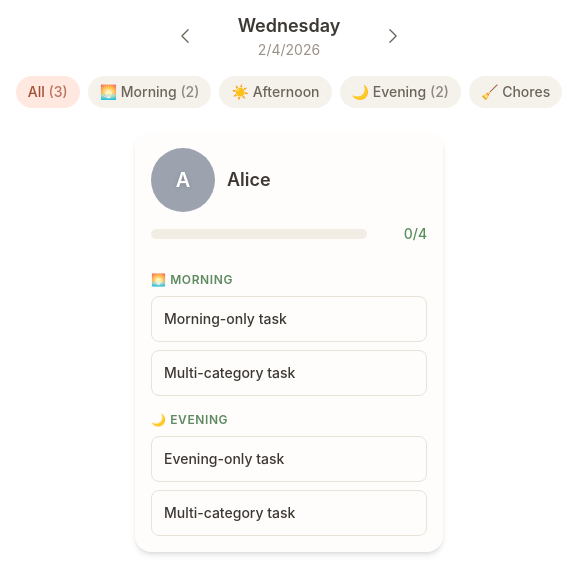
Test case: ScheduleView › category filter › toggling filter off returns to showing all categories
// Click Morning to filter
Click the button "🌅 Morning (2)".
click(150, 92)  # box [88,76,211,108]
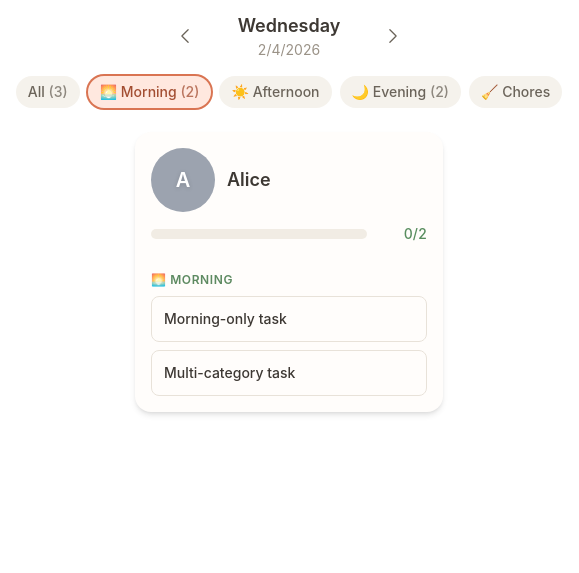
Check: the button "Evening-only task" is gone
// Click Morning again to toggle off (return to All)
Click the button "🌅 Morning (2)".
click(150, 92)  # box [88,76,211,108]
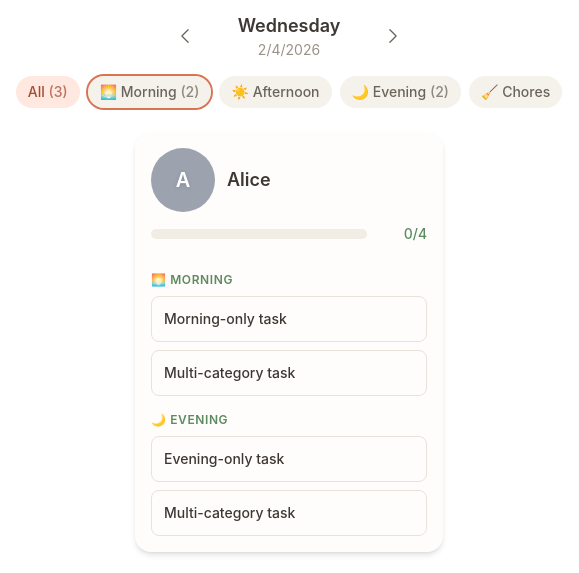
Check: the text "Evening-only task" is shown, box [164,450,284,467]
Check: the text "Multi-category task" is shown 2 times, box [164,364,295,381]; [164,504,295,521]
